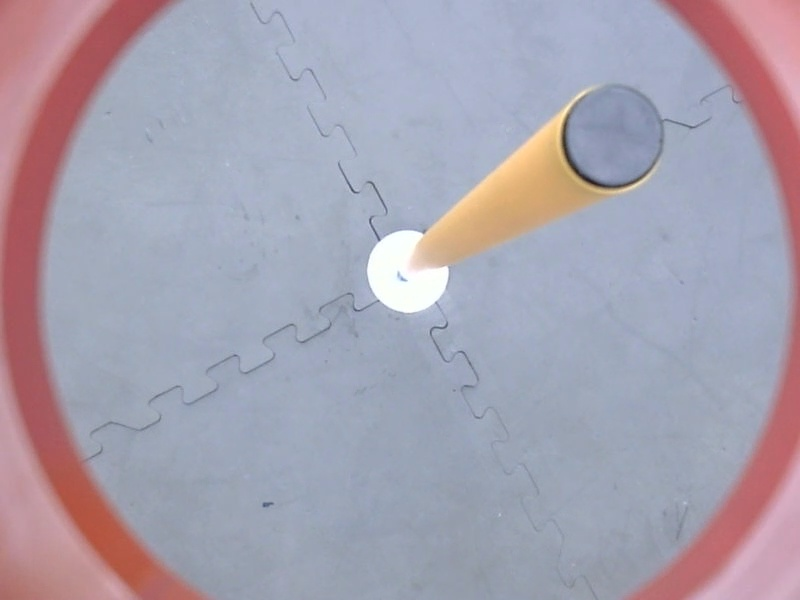tip: (548, 75, 675, 199)
